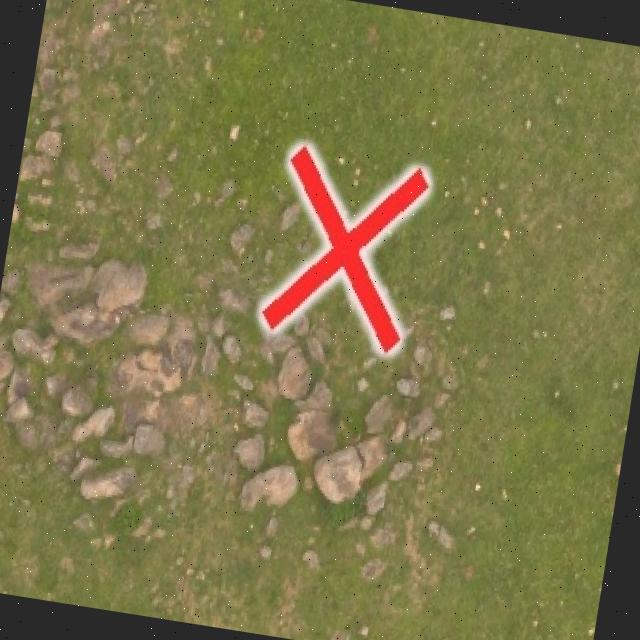x_marker: (258, 144, 431, 354)
